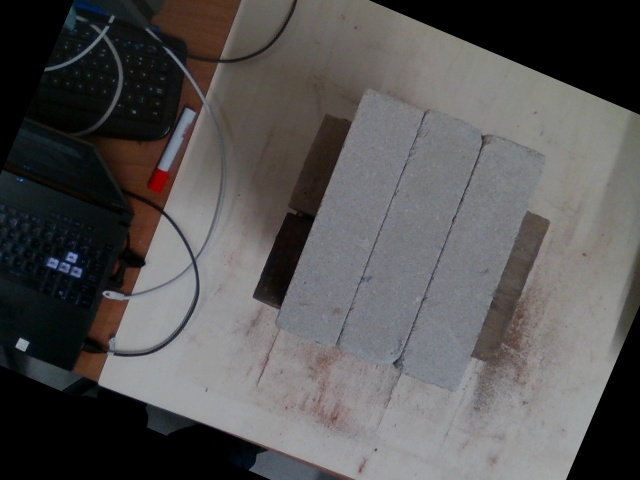brick-side: (337, 113, 483, 371), (399, 135, 545, 392), (278, 88, 424, 345)
